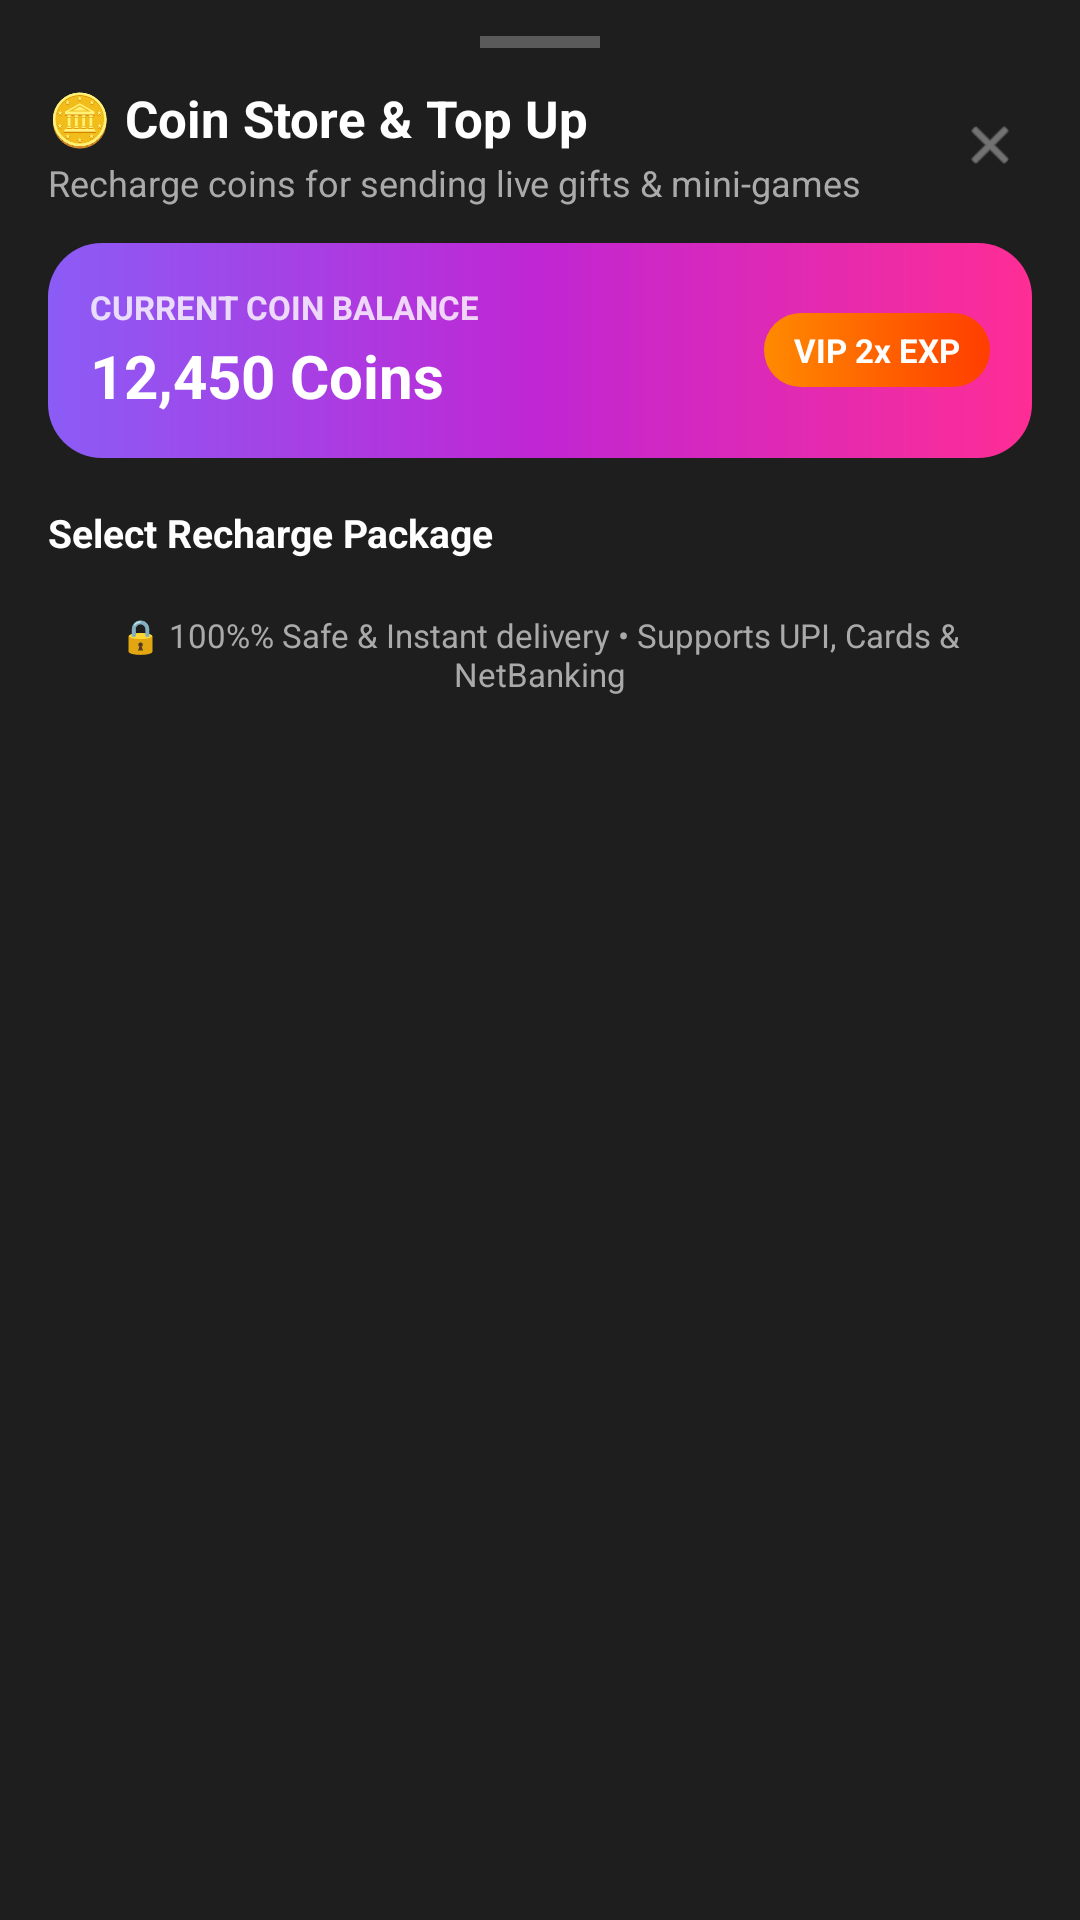

Where to tap for icons on this 1080×1920 app screen, as [x,y]:
Close: [990,145]
